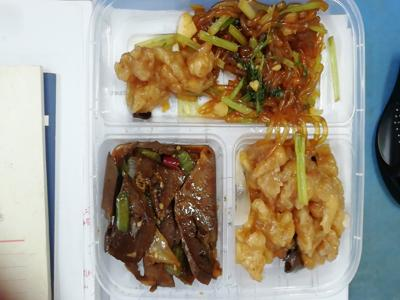gbr: (240, 139, 353, 282)
